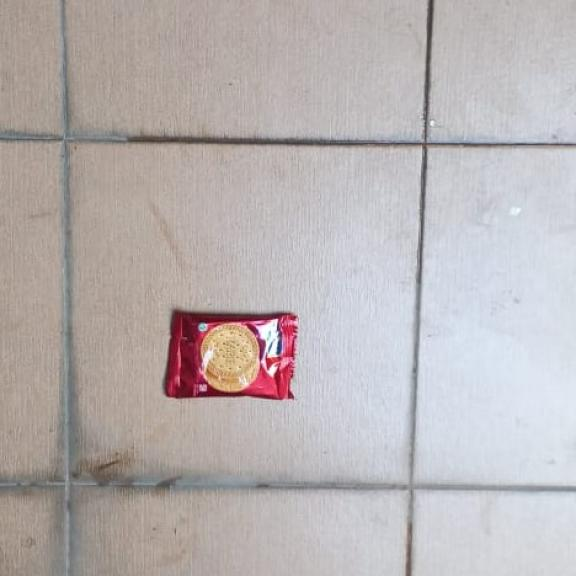Plastik: (164, 309, 299, 401)
